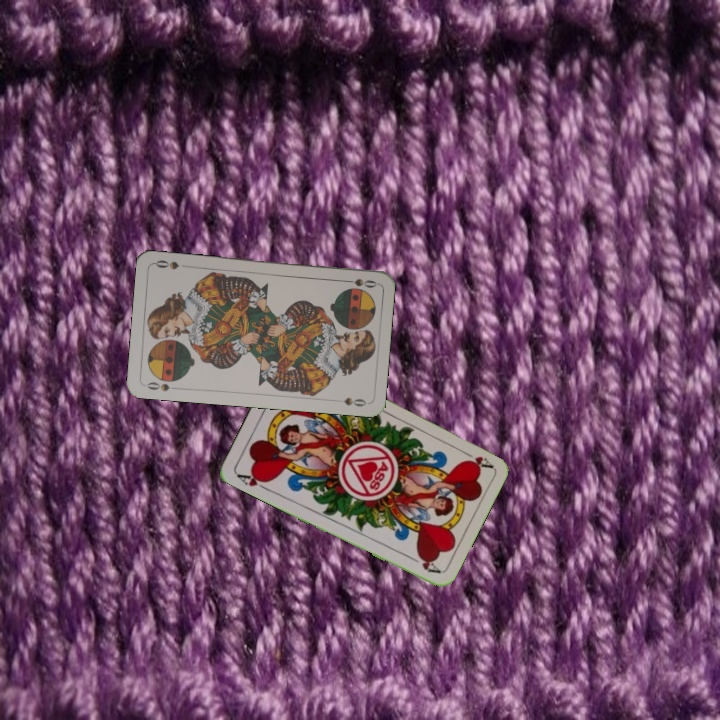HA: (456, 446, 494, 471), (233, 469, 271, 493)
SO: (339, 274, 379, 290), (143, 378, 172, 394)
